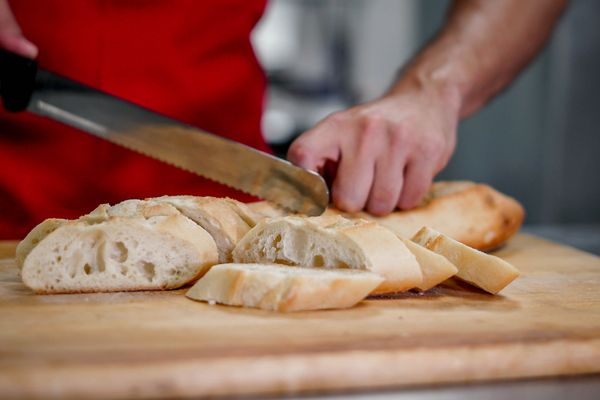sandwich: (0, 48, 330, 218)
